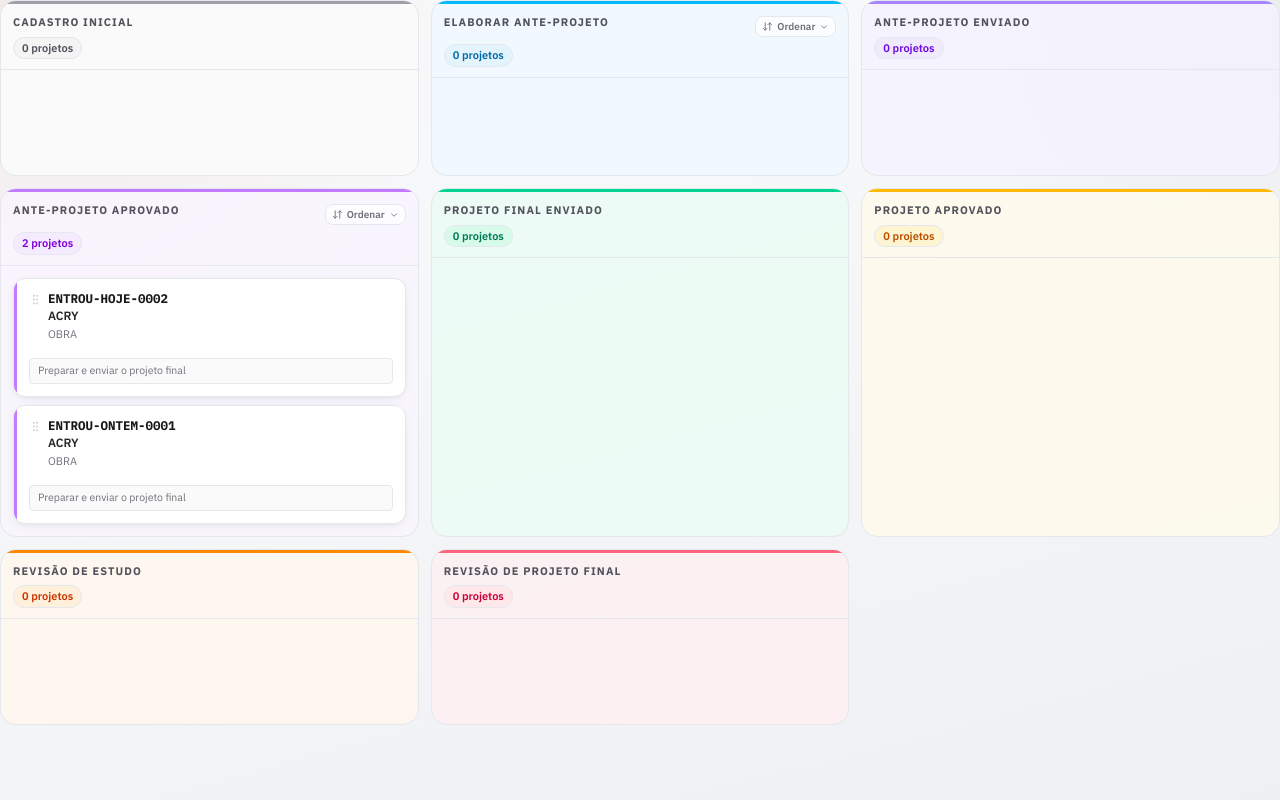
Test case: Kanban — ordenação de ANTE-PROJETO APROVADO por data de entrada › o menu oferece só as opções de entrada, sem termos de vencimento/prazo/SLA
Click the button with aria-label "Ordenar coluna Ante-Projeto Aprovado".
click(365, 214)  # box 325,204 -> 406,225
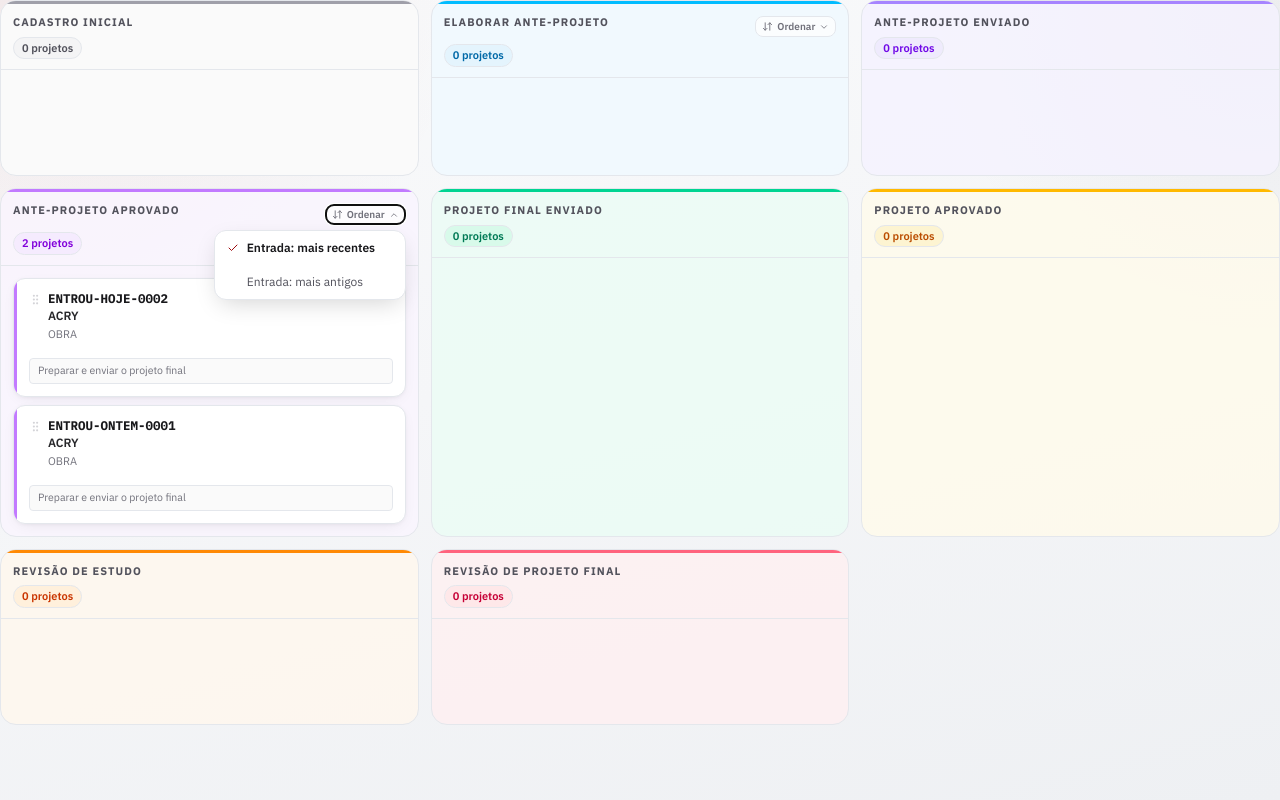
Now the menu item "Entrada: mais recentes" is shown, box 215,231 -> 405,265
Now the menu item "Entrada: mais antigos" is shown, box 215,265 -> 405,299
